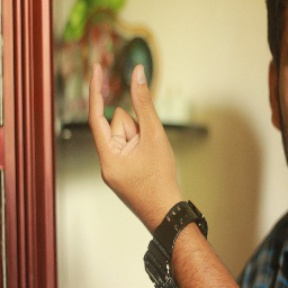U: (84, 58, 177, 194)
